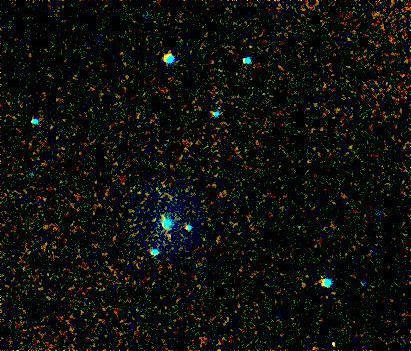star: (322, 332, 352, 351)
